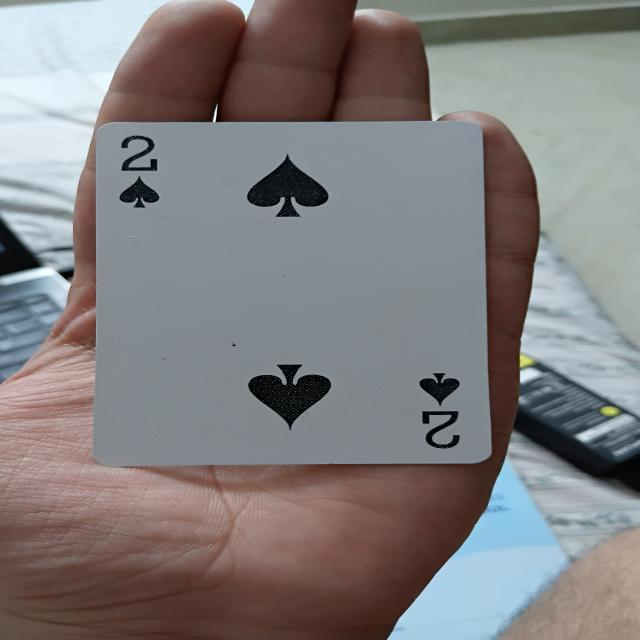2S: (84, 119, 499, 466)
